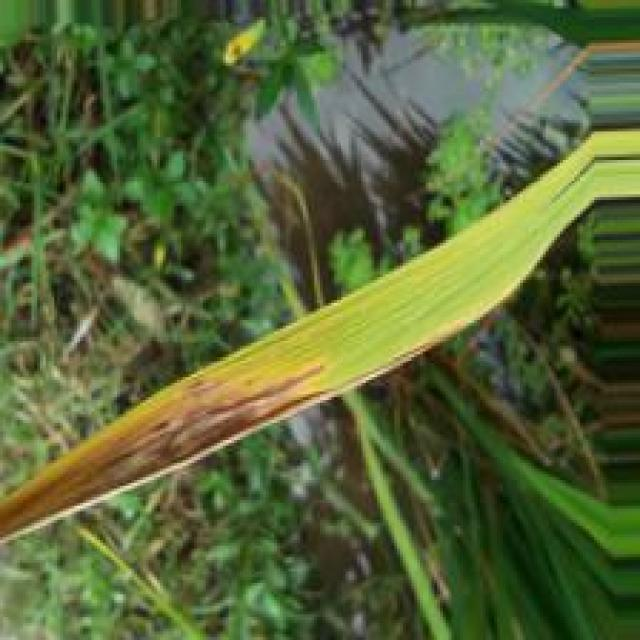Leaf_Scald: (0, 359, 383, 543)
